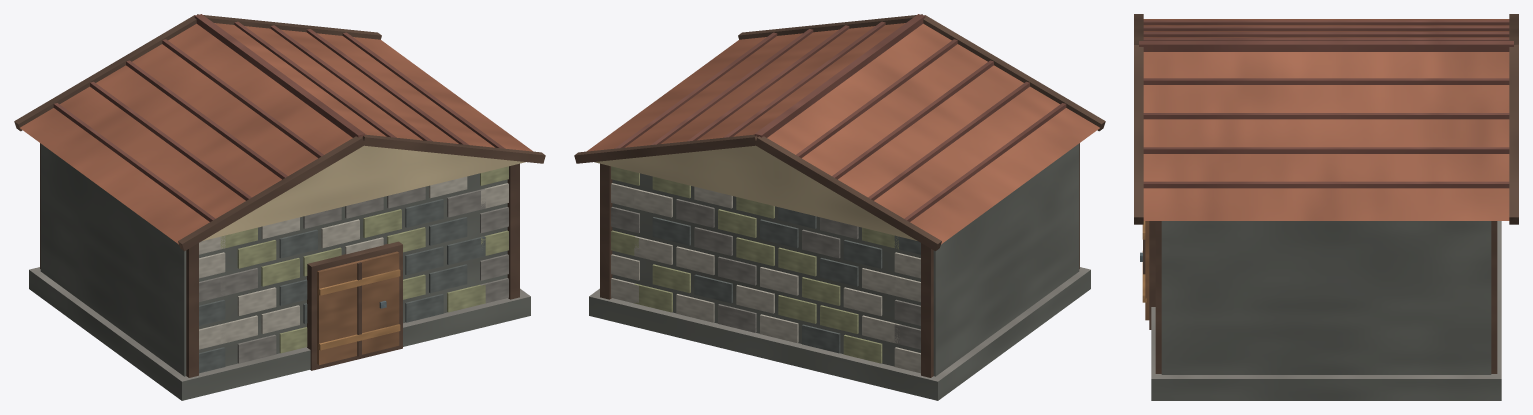
Rendered from crypt_entrance.fbx.
The picture shows the model from 3 angles, left to right: view 1: azimuth 30°, elevation 25°; view 2: azimuth 150°, elevation 25°; view 3: azimuth 270°, elevation 25°; orthographic projection. The views are drawn at different scales.
Parts seen in each view (by area): view 1: crypt_entrance; view 2: crypt_entrance; view 3: crypt_entrance.
Boxes of the visible parts, x1,y1,x2,y2 form: crypt_entrance: (14, 14, 545, 400); crypt_entrance: (574, 14, 1105, 400); crypt_entrance: (1134, 14, 1518, 400).
Bounding box in the file's own units: 500 × 300 × 400.
Materials: 1 (1 with a texture image).
